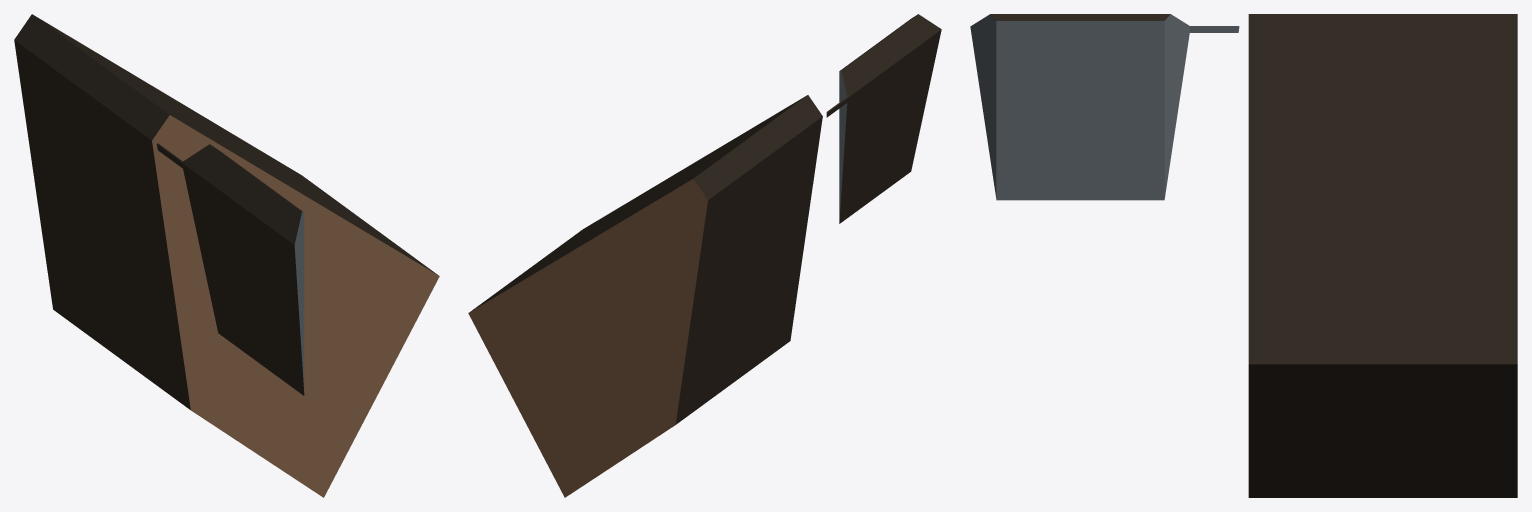
The model's file is SM_DoorShard_03_63.fbx.
3 views of the same model, side by side, from view 1: azimuth 30°, elevation 25°; view 2: azimuth 150°, elevation 25°; view 3: azimuth 270°, elevation 25° (orthographic). The views are drawn at different scales.
Visible parts, largest first — view 1: SM_DoorShard_03_63; view 2: SM_DoorShard_03_63; view 3: SM_DoorShard_03_63.
Boxes of the visible parts, x1=… form: SM_DoorShard_03_63: x1=14, y1=14, x2=439, y2=497; SM_DoorShard_03_63: x1=468, y1=14, x2=941, y2=497; SM_DoorShard_03_63: x1=970, y1=14, x2=1517, y2=497.
Bounding box in the file's own units: 19.29 × 32.56 × 26.95.
